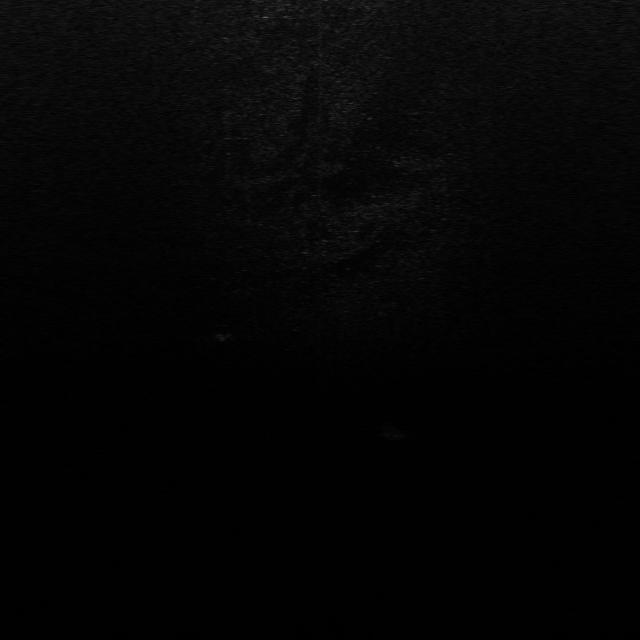ball: (378, 418, 412, 442)
circle cage: (210, 322, 238, 342)
